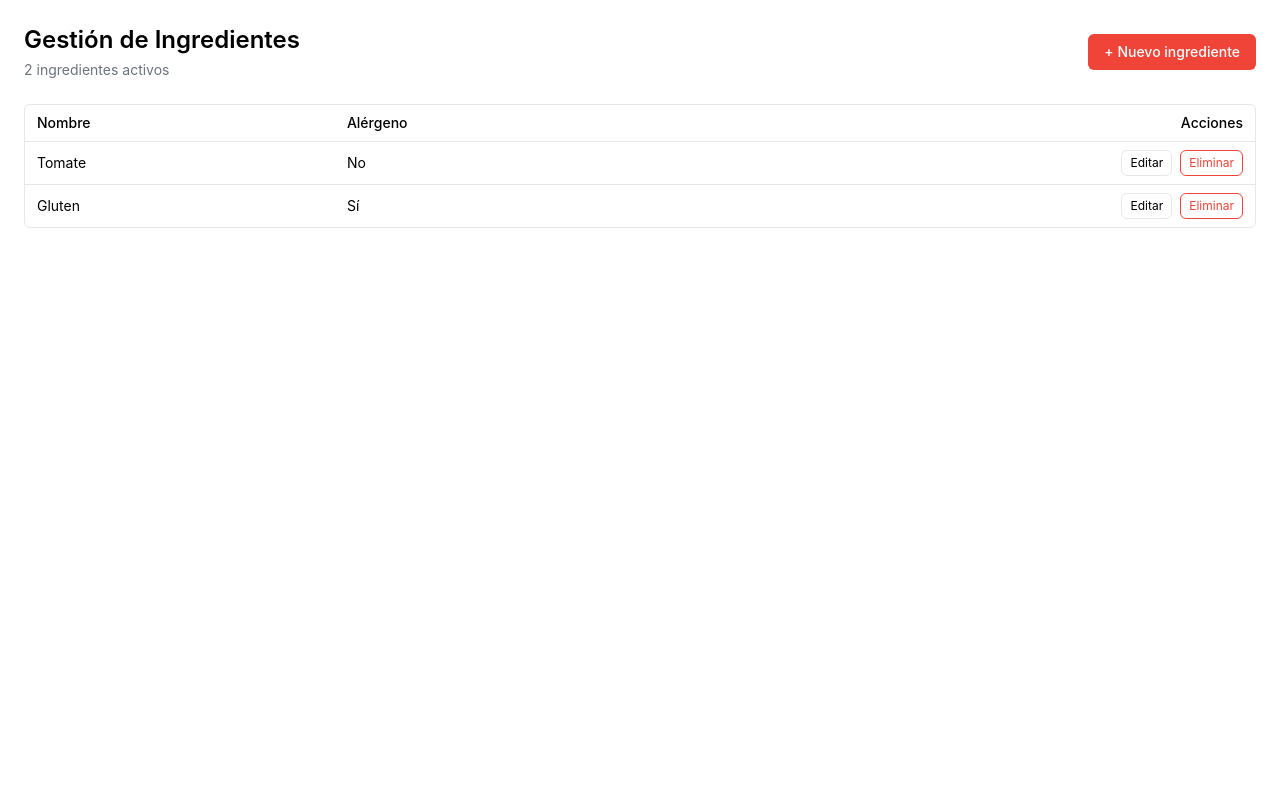
Test: StockIngredientsPage › opens create modal when "Nuevo ingrediente" is clicked
Click the button "+ Nuevo ingrediente" at (1172, 52), box [1088,34,1256,70]
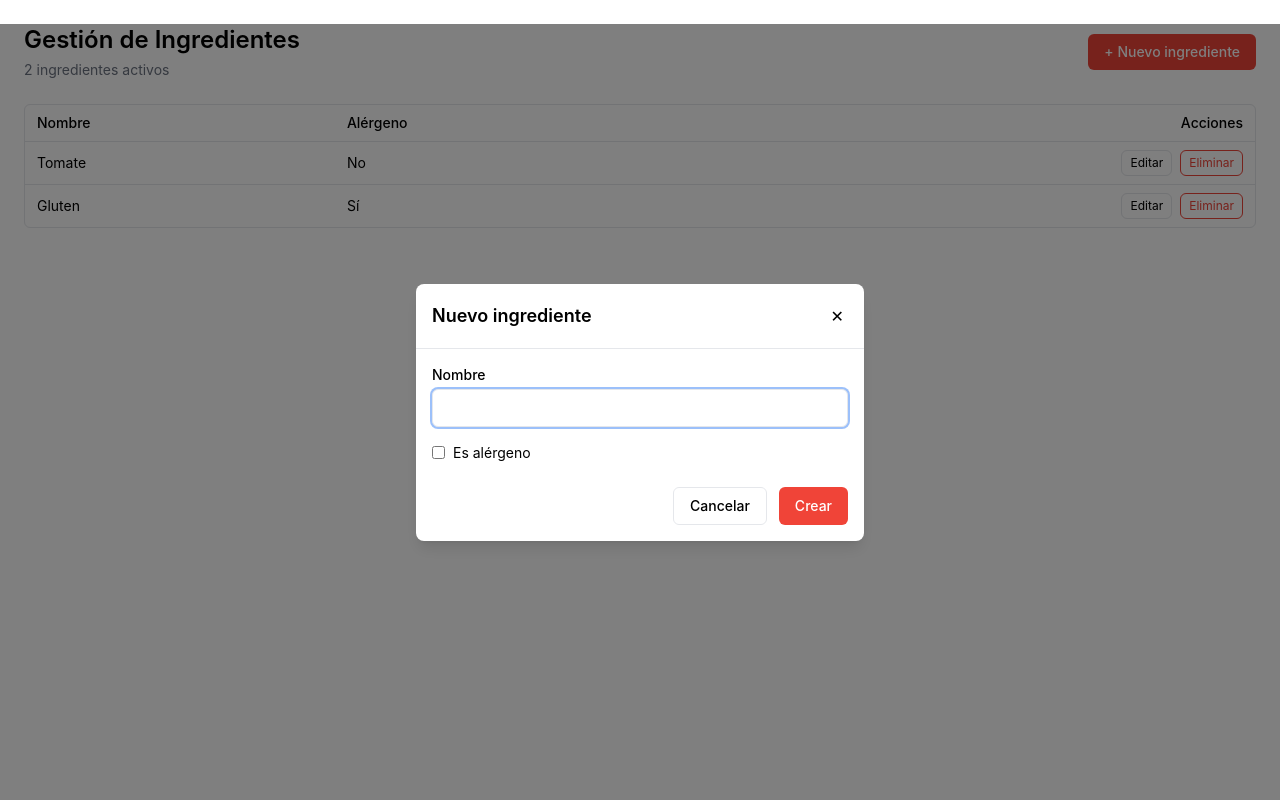
Now the dialog is shown
Now the heading "Nuevo ingrediente" is shown, box [432,302,592,330]
